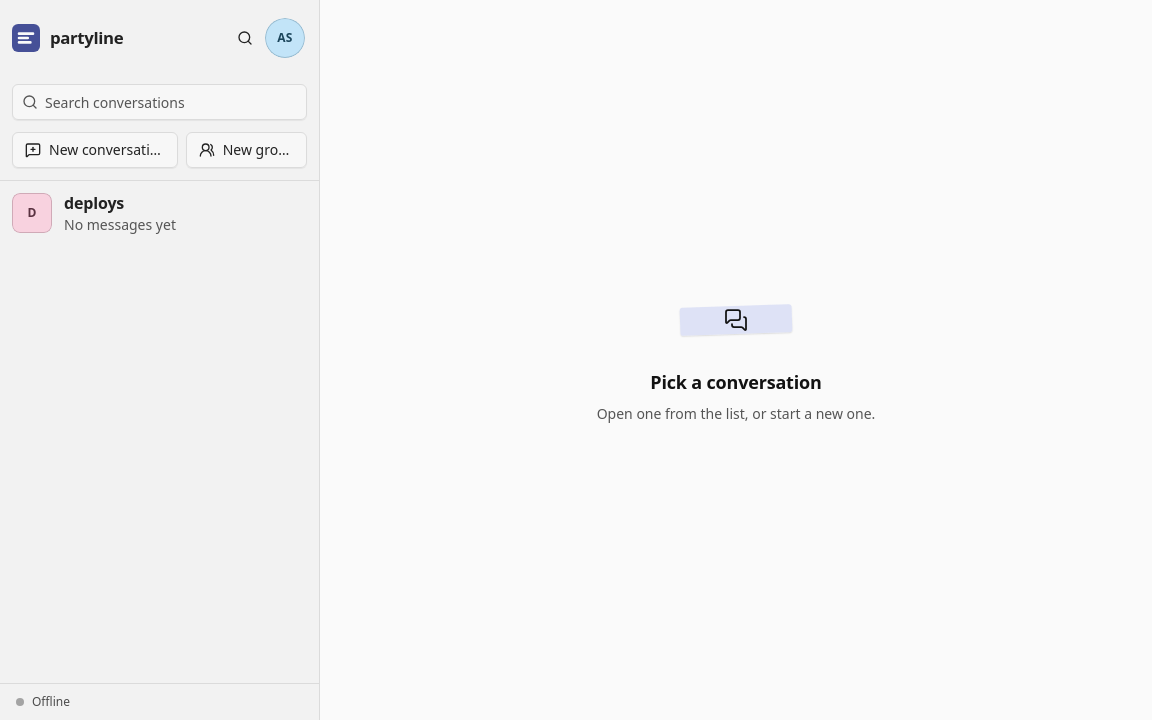
it: who can be a member › offers the AIs of the user's organizations, the ones they host and the other users, and no one else
Click the button "New group" at (246, 150), box 186,132 -> 307,168
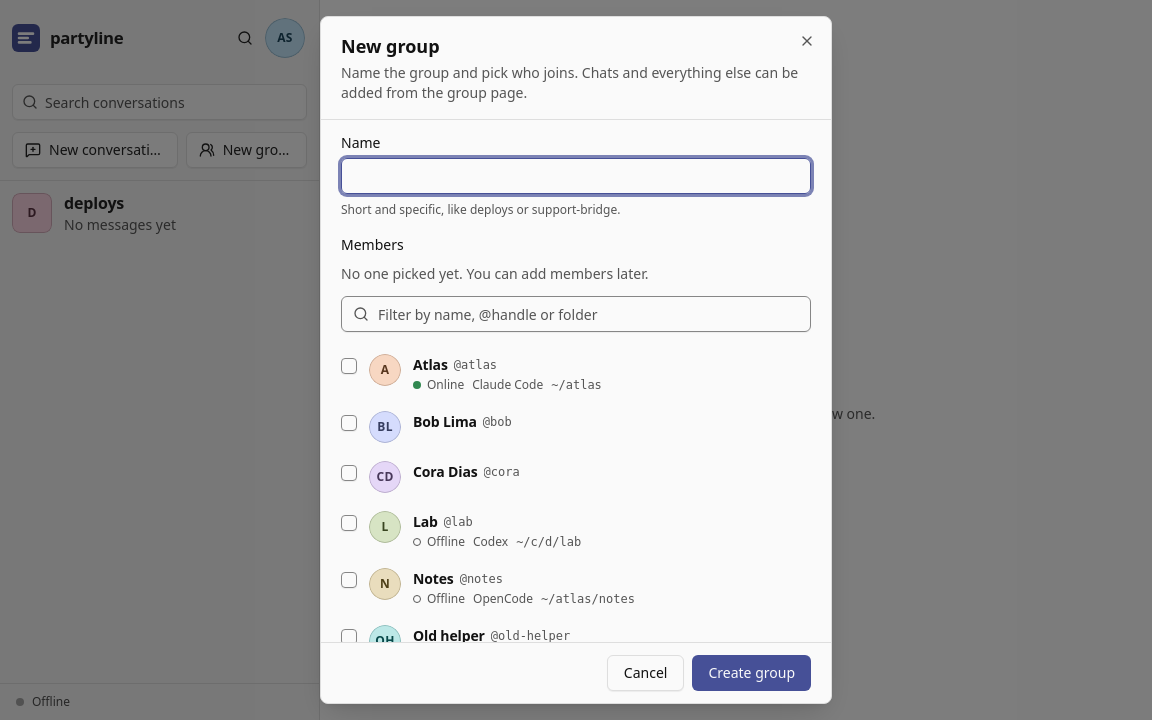
Now the checkbox named "Atlas" is shown, box 341,358 -> 357,374
